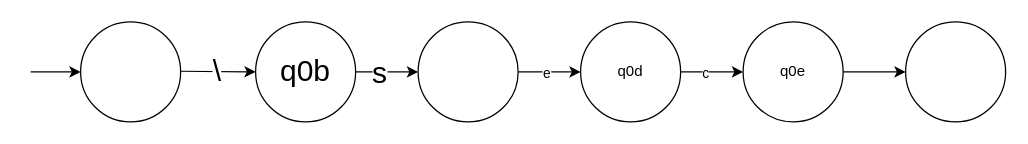
The diagram is 1028 pixels wide and 144 high, and some of its shapes have lost their labels. The shapes that lost their labels are listed below. From the top down, each one's centre as x and y in pixels, then its label:
At pixel 130 71: "q0a".
At pixel 467 71: "q0c".
